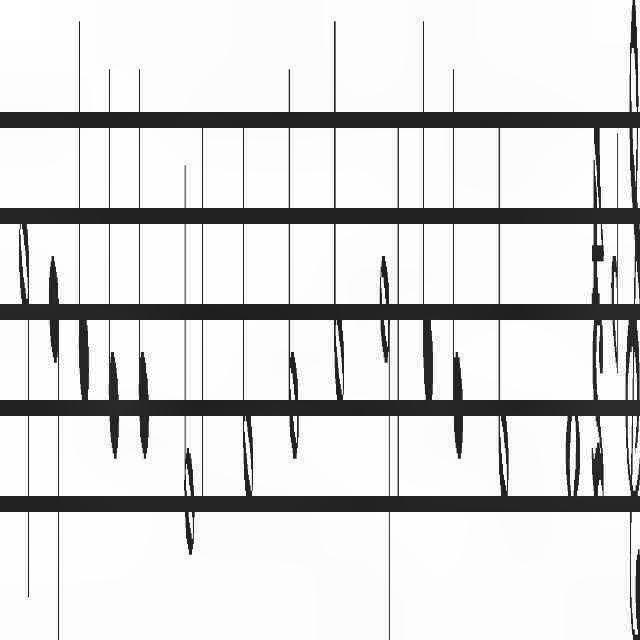Bass-clef: (624, 0, 640, 640)
Bemol: (610, 110, 620, 378)
Full-note: (565, 391, 583, 502)
Half-note: (240, 111, 256, 513), (286, 36, 300, 464), (332, 4, 346, 423), (498, 110, 510, 530), (182, 161, 194, 567), (18, 209, 30, 611), (380, 245, 392, 640)
Quarter-note: (451, 49, 465, 464), (107, 49, 121, 464), (48, 240, 62, 640), (422, 4, 434, 440), (138, 54, 150, 468), (78, 13, 90, 419)
